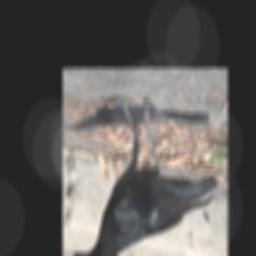Crow: (72, 98, 217, 256)
